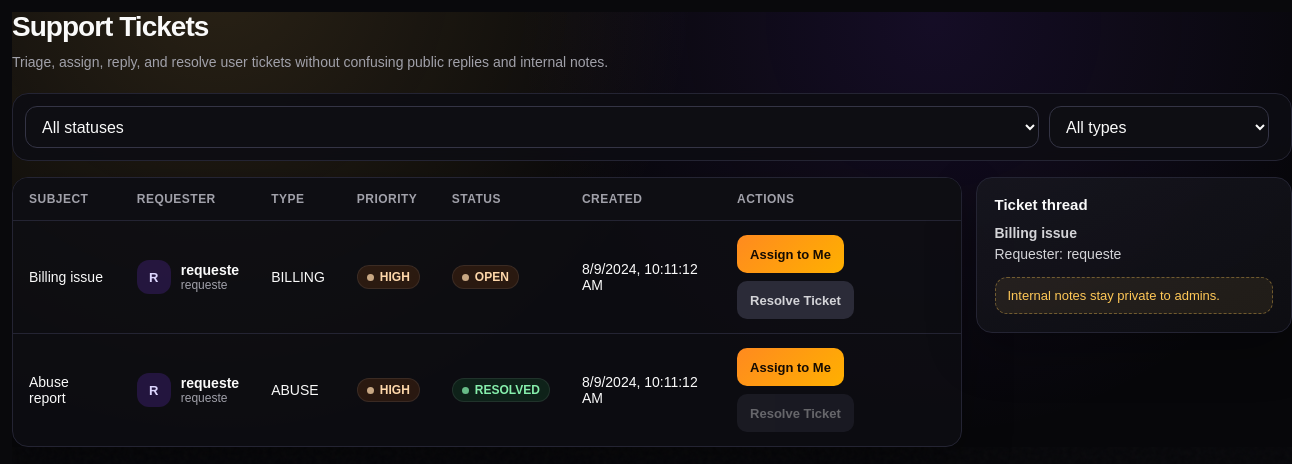
Test case: SupportPage › filters by status and type
Select "RESOLVED" in the 1st dropdown at (532, 127), box [25, 106, 1039, 148]
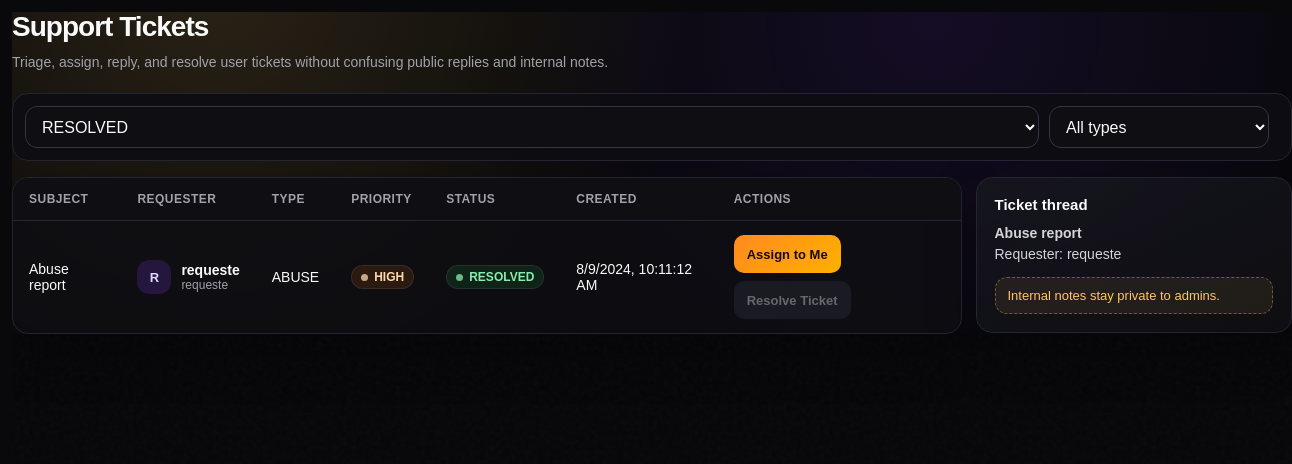
Expected: the text "Abuse report" is shown, [13, 221, 121, 333]
Expected: the text "Billing issue" is gone
Select "ABUSE" in the 2nd dropdown at (1159, 127), box [1049, 106, 1269, 148]
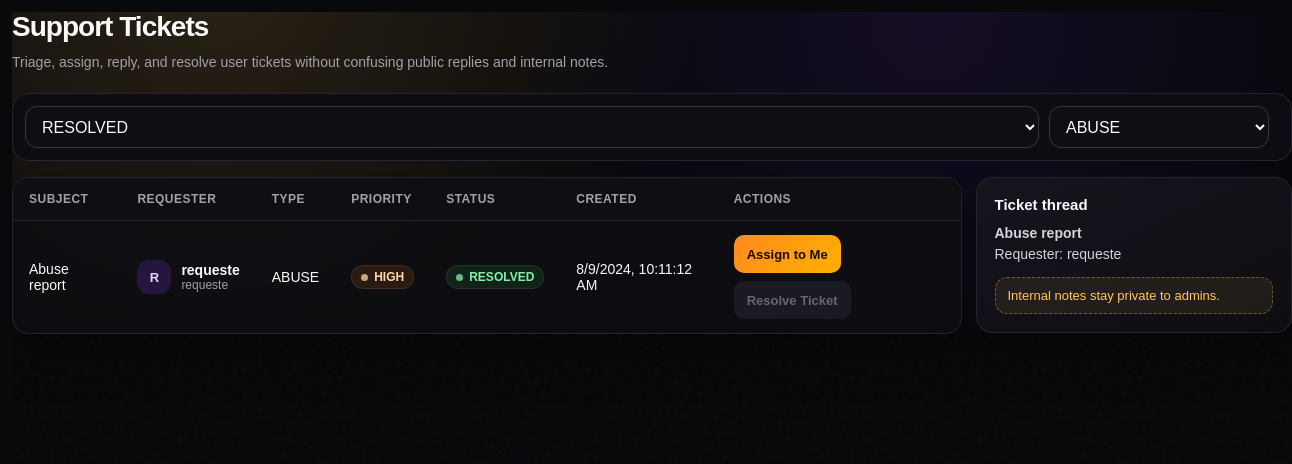
Expected: the text "Abuse report" is shown, [13, 221, 121, 333]
Select "BILLING" in the 2nd dropdown at (1159, 127), box [1049, 106, 1269, 148]
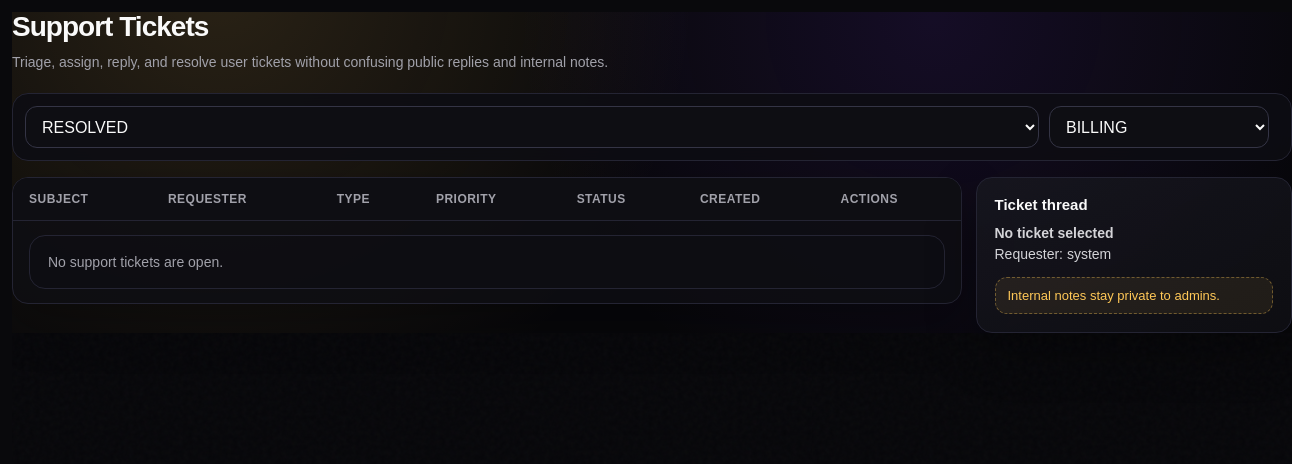
Expected: the text "Abuse report" is gone
Expected: the text "No support tickets are open." is shown, [29, 235, 944, 289]
